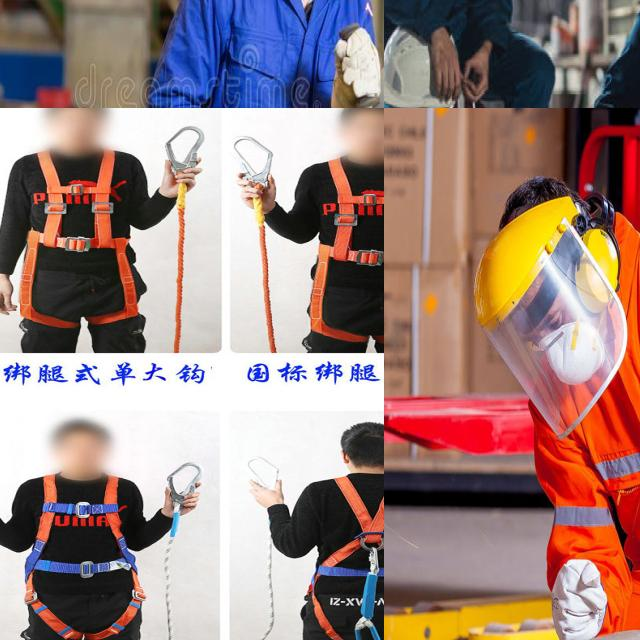Ear-protection: (570, 219, 623, 316)
Harness: (9, 152, 149, 326), (25, 472, 144, 637), (308, 156, 384, 345), (319, 474, 384, 640)
hand_noglove: (430, 27, 493, 101)
person: (469, 170, 640, 640)
